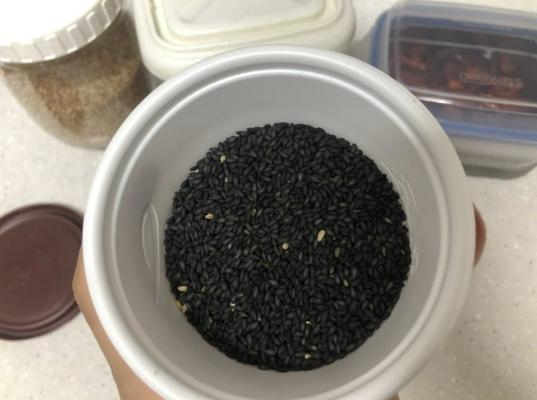Bottle: (0, 0, 150, 147)
Lunch Box: (0, 45, 474, 399), (367, 0, 536, 173), (134, 0, 353, 79)
